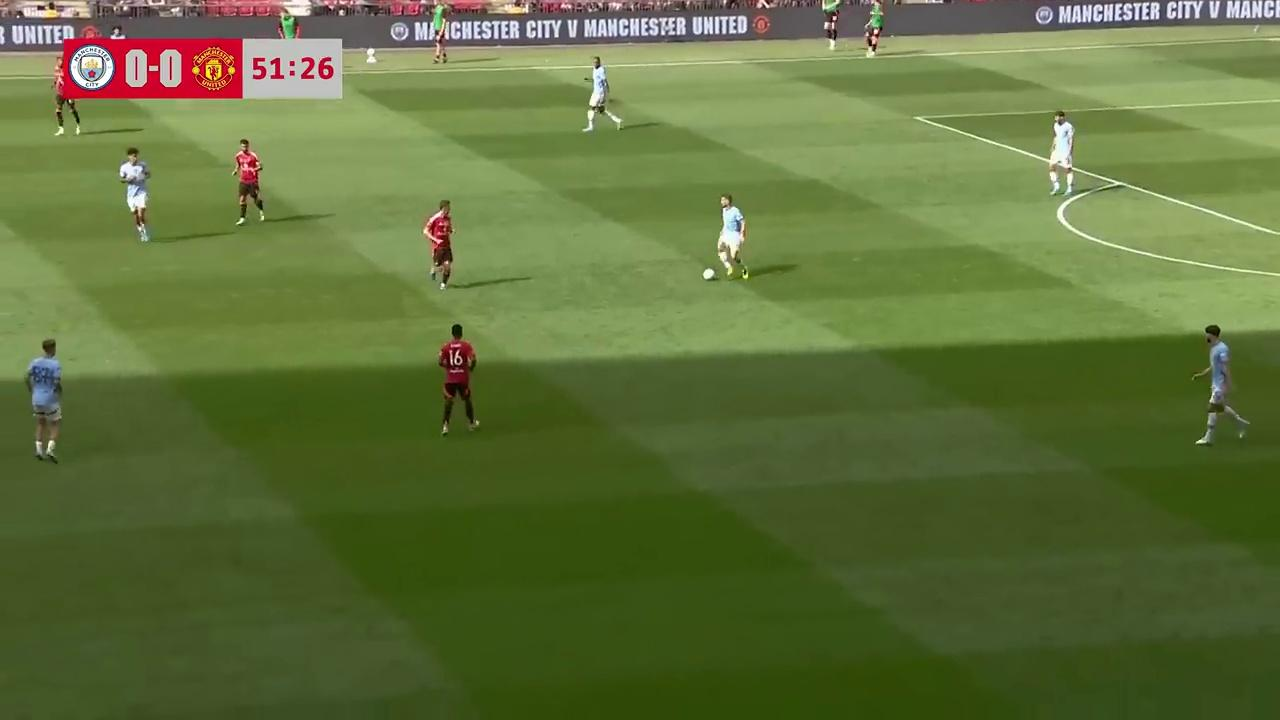ball: (701, 265, 717, 281)
player: (1191, 325, 1252, 447), (437, 322, 480, 437), (25, 338, 63, 463), (708, 195, 748, 281), (582, 56, 622, 133), (231, 137, 266, 225), (119, 146, 151, 242), (423, 199, 456, 290), (1048, 109, 1074, 197), (50, 63, 81, 136)
